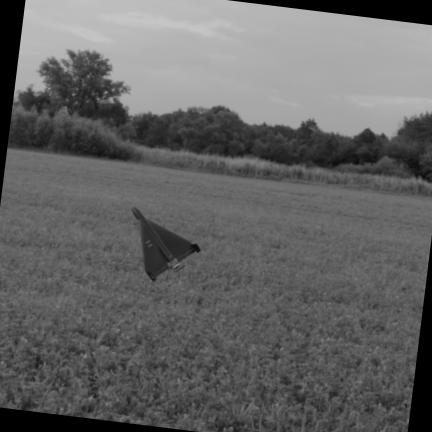Shahed: (132, 206, 199, 279)
